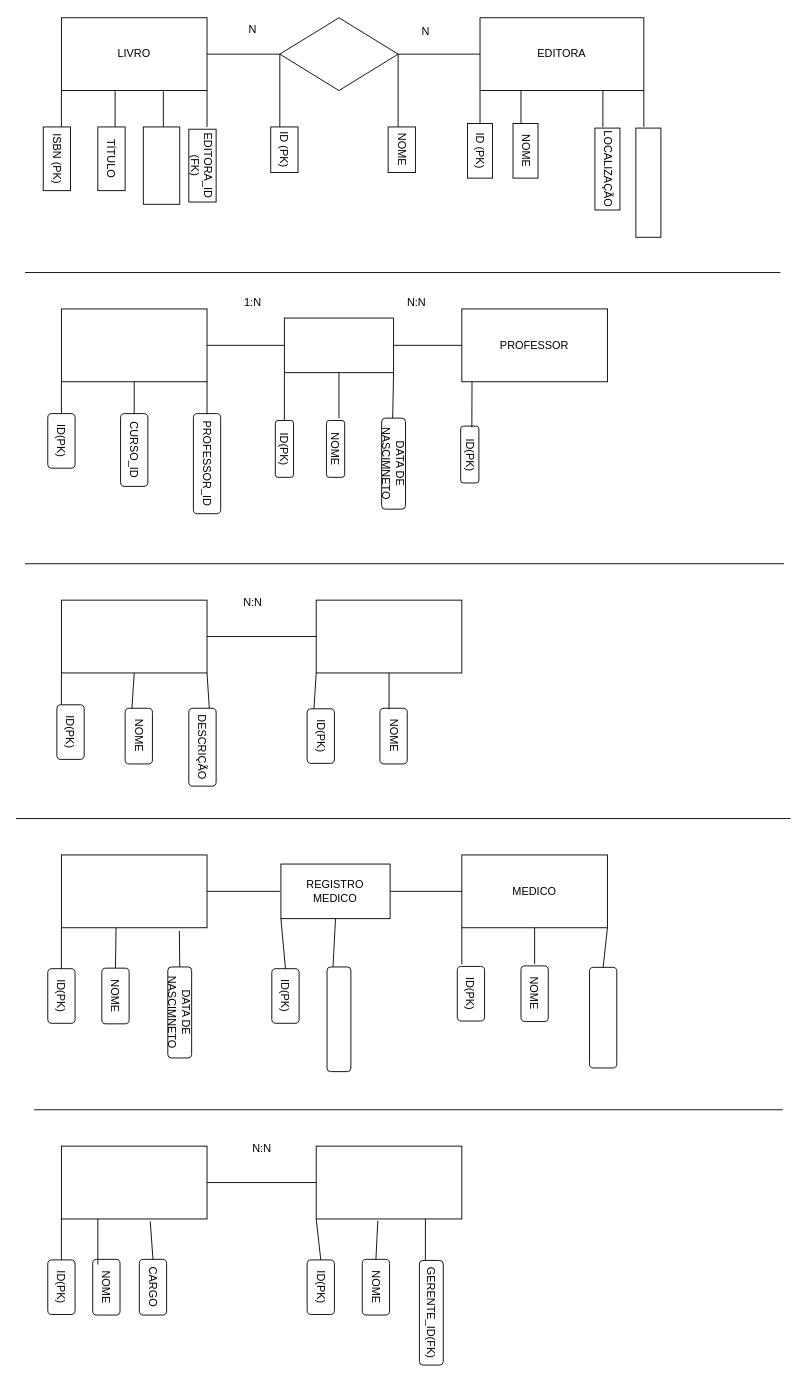
The diagram is 808 pixels wide and 1381 high, and some of its shapes have lost their labels. Here are the shapes that lost their labels. From the top down, the centre of each, then its label:
At (338,54): "AUTOR".
At (161,165): "ANO PUBLICAÇÃO".
At (648,182): "ANO/FUNDAÇÃO".
At (134,345): "TURMA".
At (338,345): "ALUNO".
At (134,636): "PROJETO".
At (388,636): "FUNCIONARIO".
At (134,891): "PACIENTE".
At (338,1019): "PACIENTE_ID(FK)".
At (603,1017): "ESPECIALIZAÇÃO".
At (134,1182): "FUNCIONÁRIO".
At (388,1182): "DEPARTAMENTO".
